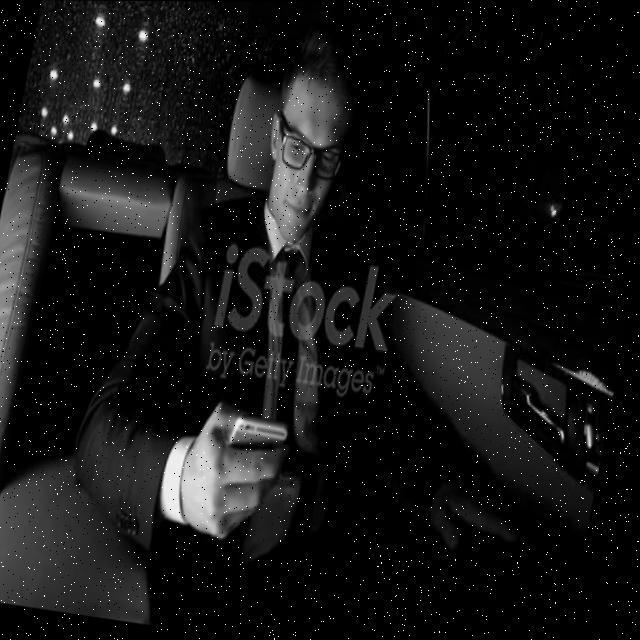PhoneCall: (218, 414, 294, 530)
